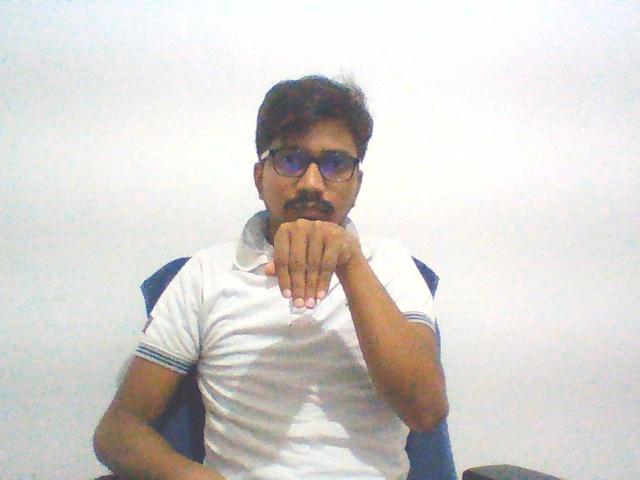Squirrel: (256, 212, 362, 316)
